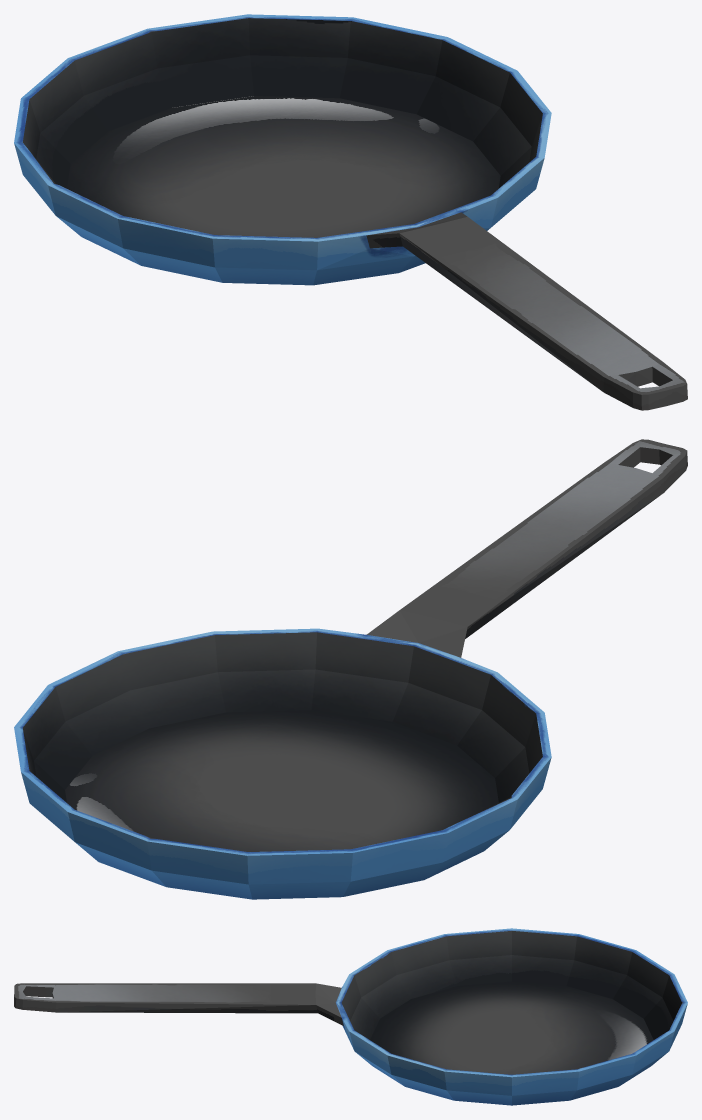
Rendered from pan.fbx.
3 views of the same model, one above another, from view 1: azimuth 30°, elevation 25°; view 2: azimuth 150°, elevation 25°; view 3: azimuth 270°, elevation 25° (orthographic). The views are drawn at different scales.
Parts seen in each view (by area): view 1: pan; view 2: pan; view 3: pan.
Boxes of the visible parts, box(x1,y1,x2,y2) form: pan: box(14, 14, 687, 410); pan: box(14, 439, 687, 899); pan: box(14, 928, 687, 1105).
Bounding box in the file's own units: 192 × 32.49 × 367.
